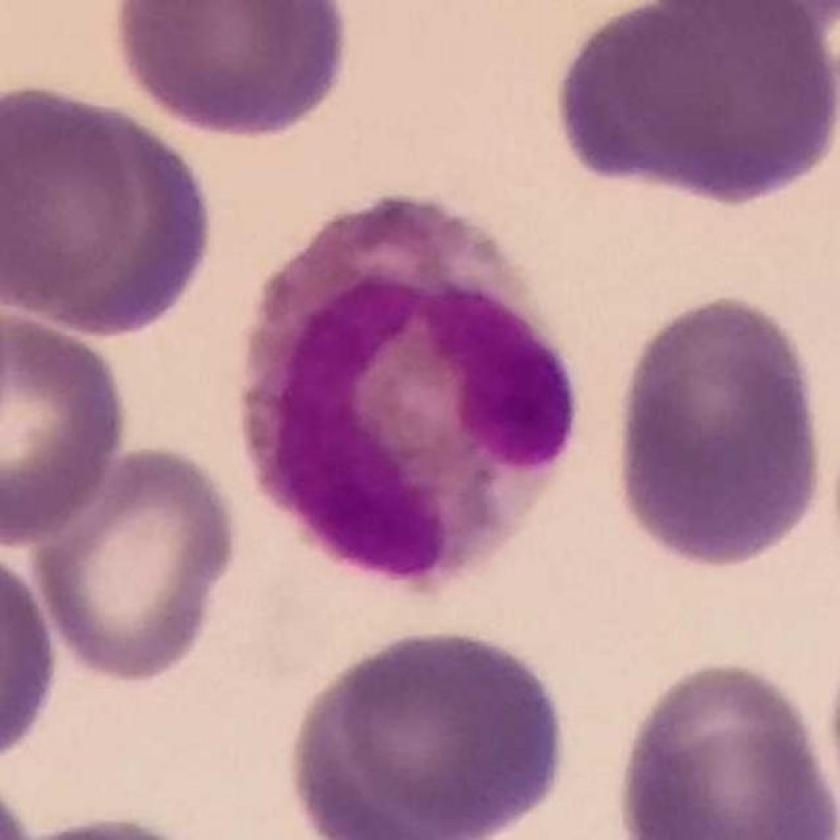eosinophil: (243, 190, 579, 588)
